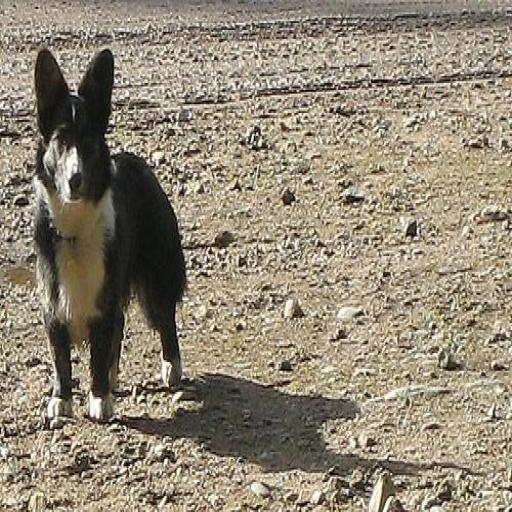dog_face: (36, 45, 120, 213)
